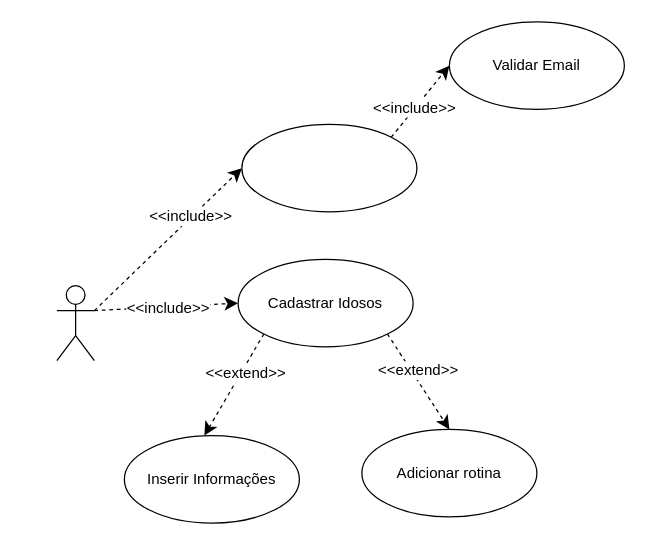
This 646x545 diagram has some shape labels left out. Each missing label, with the centre of its shape:
Cadastrar Conta: [329,167]
Familiar/Monitor: [75,322]
